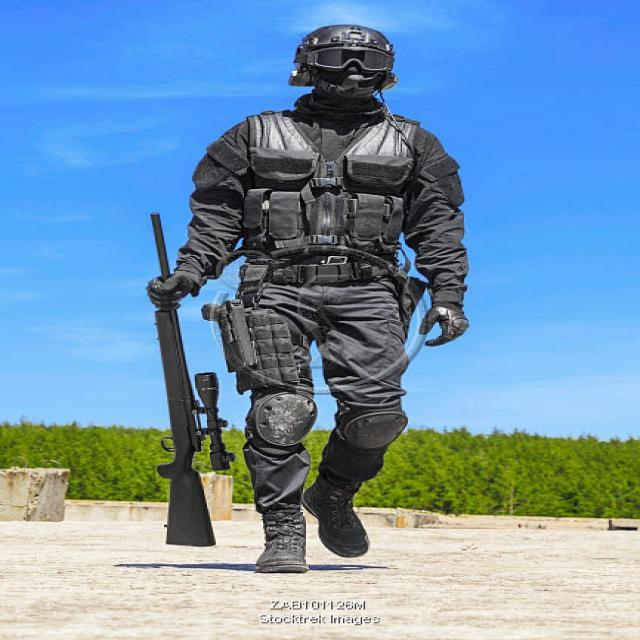rifle: (112, 202, 270, 570)
